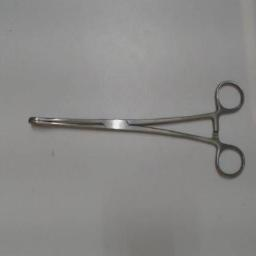Sponge Forceps: (22, 76, 250, 184)
